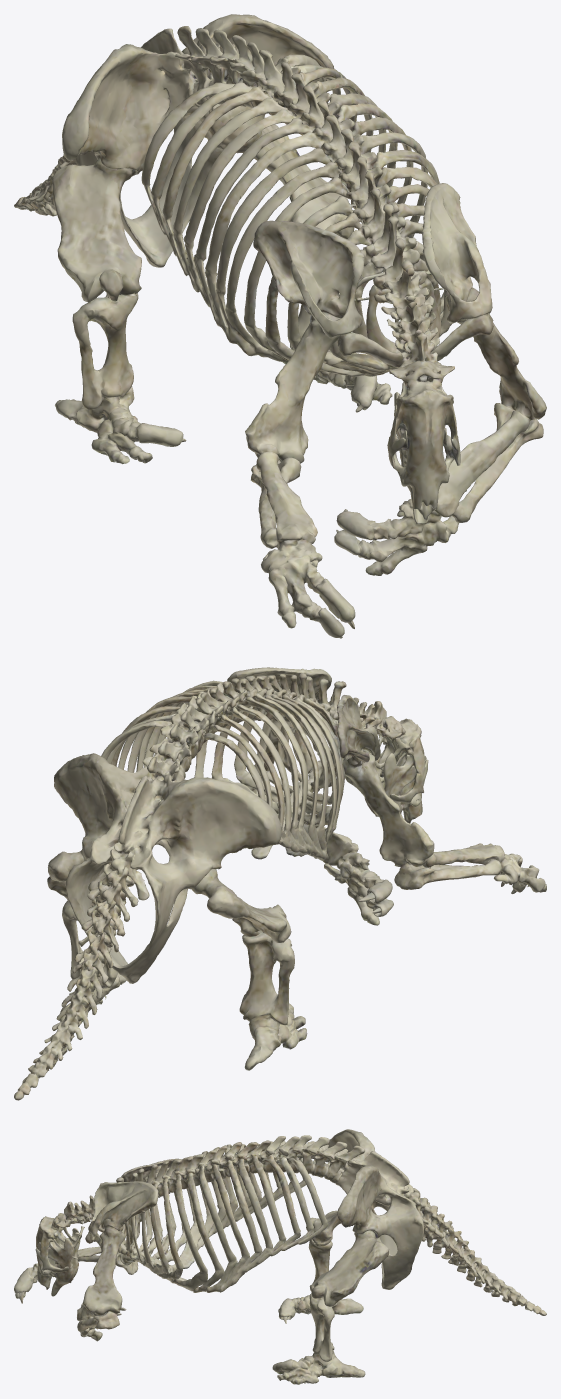
File: eremotherium.gltf
3 views of the same model, one above another, from view 1: azimuth 30°, elevation 25°; view 2: azimuth 150°, elevation 25°; view 3: azimuth 270°, elevation 25° (orthographic). The views are drawn at different scales.
Size of the model in its own units: 1786 by 1942 by 4336.
1 material, 1 textured.
